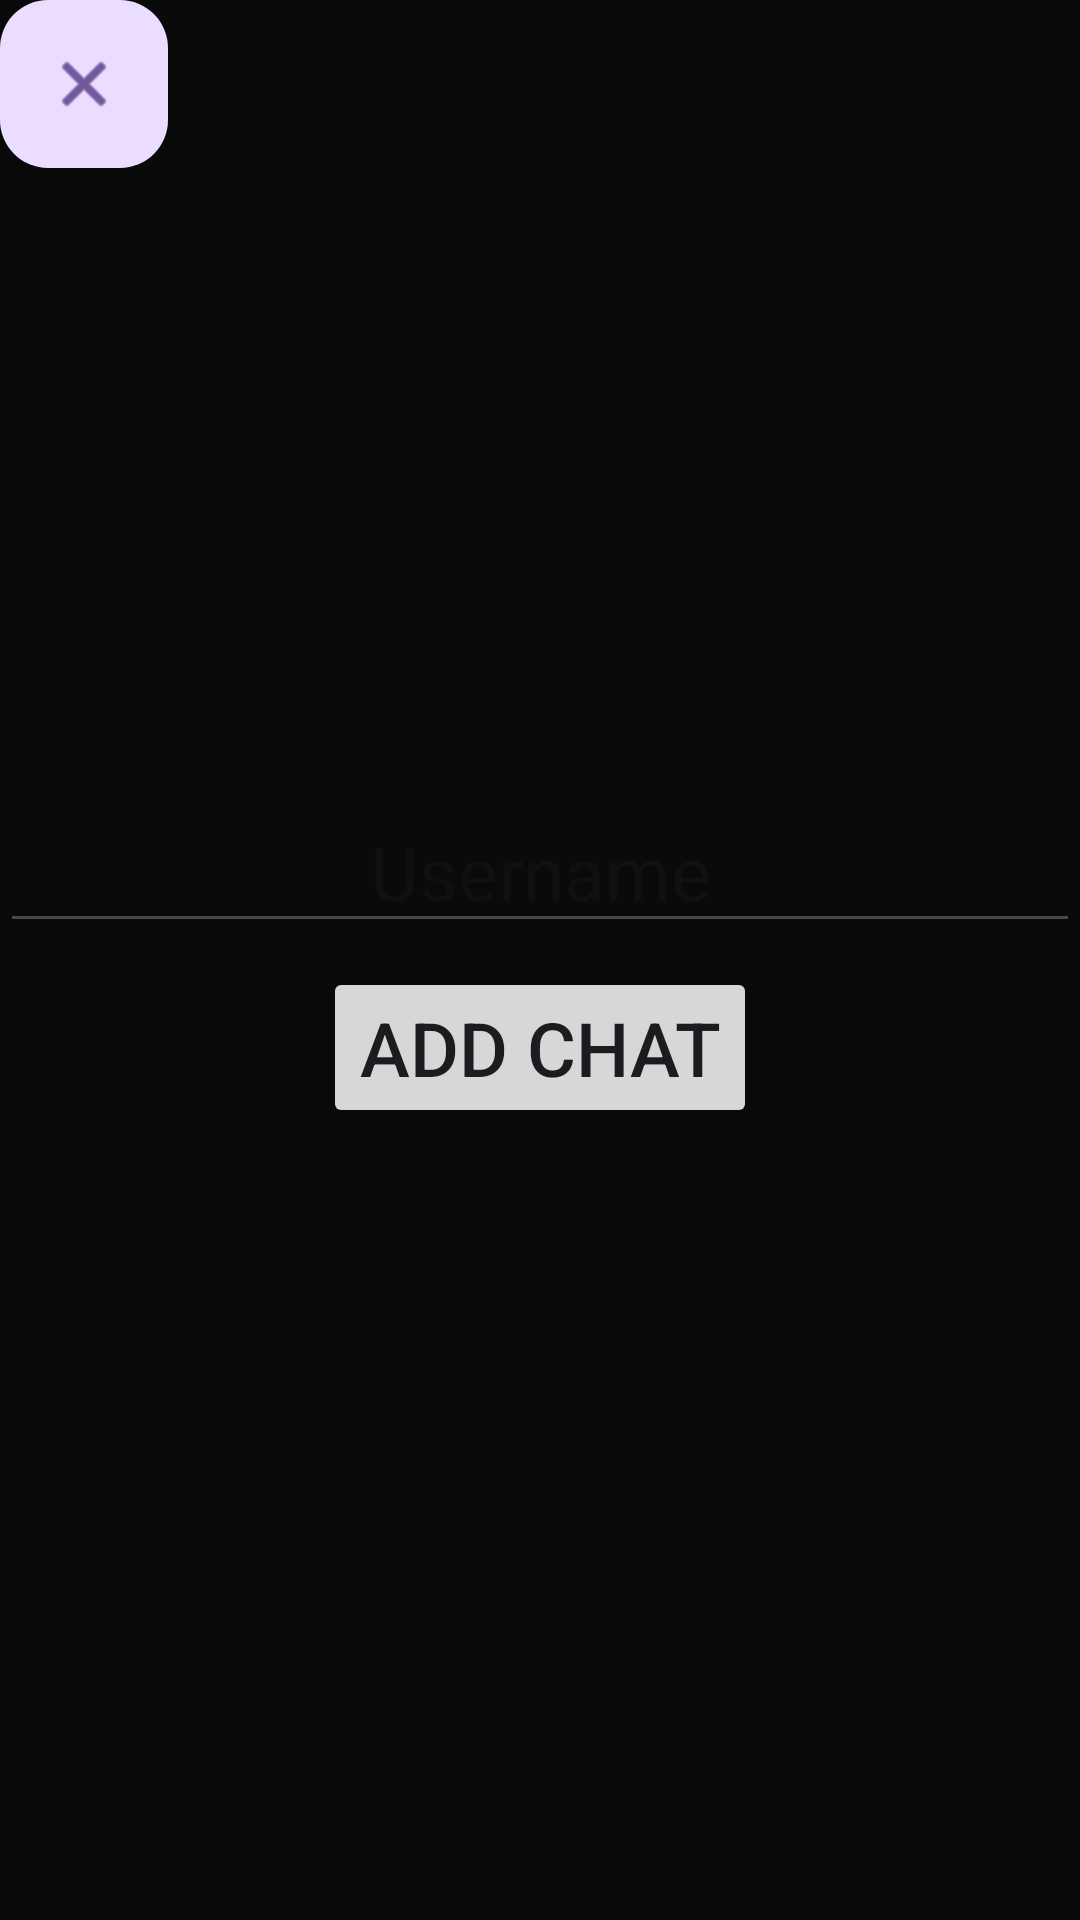

Icons on this 1080×1920 Android screen, each with its box as [x1=x1, y1=y1, x2=x2, y2=y2]:
close clear cancel: [x1=0, y1=0, x2=168, y2=168]
